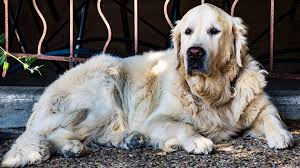Golden Retriever: (17, 3, 299, 165)
